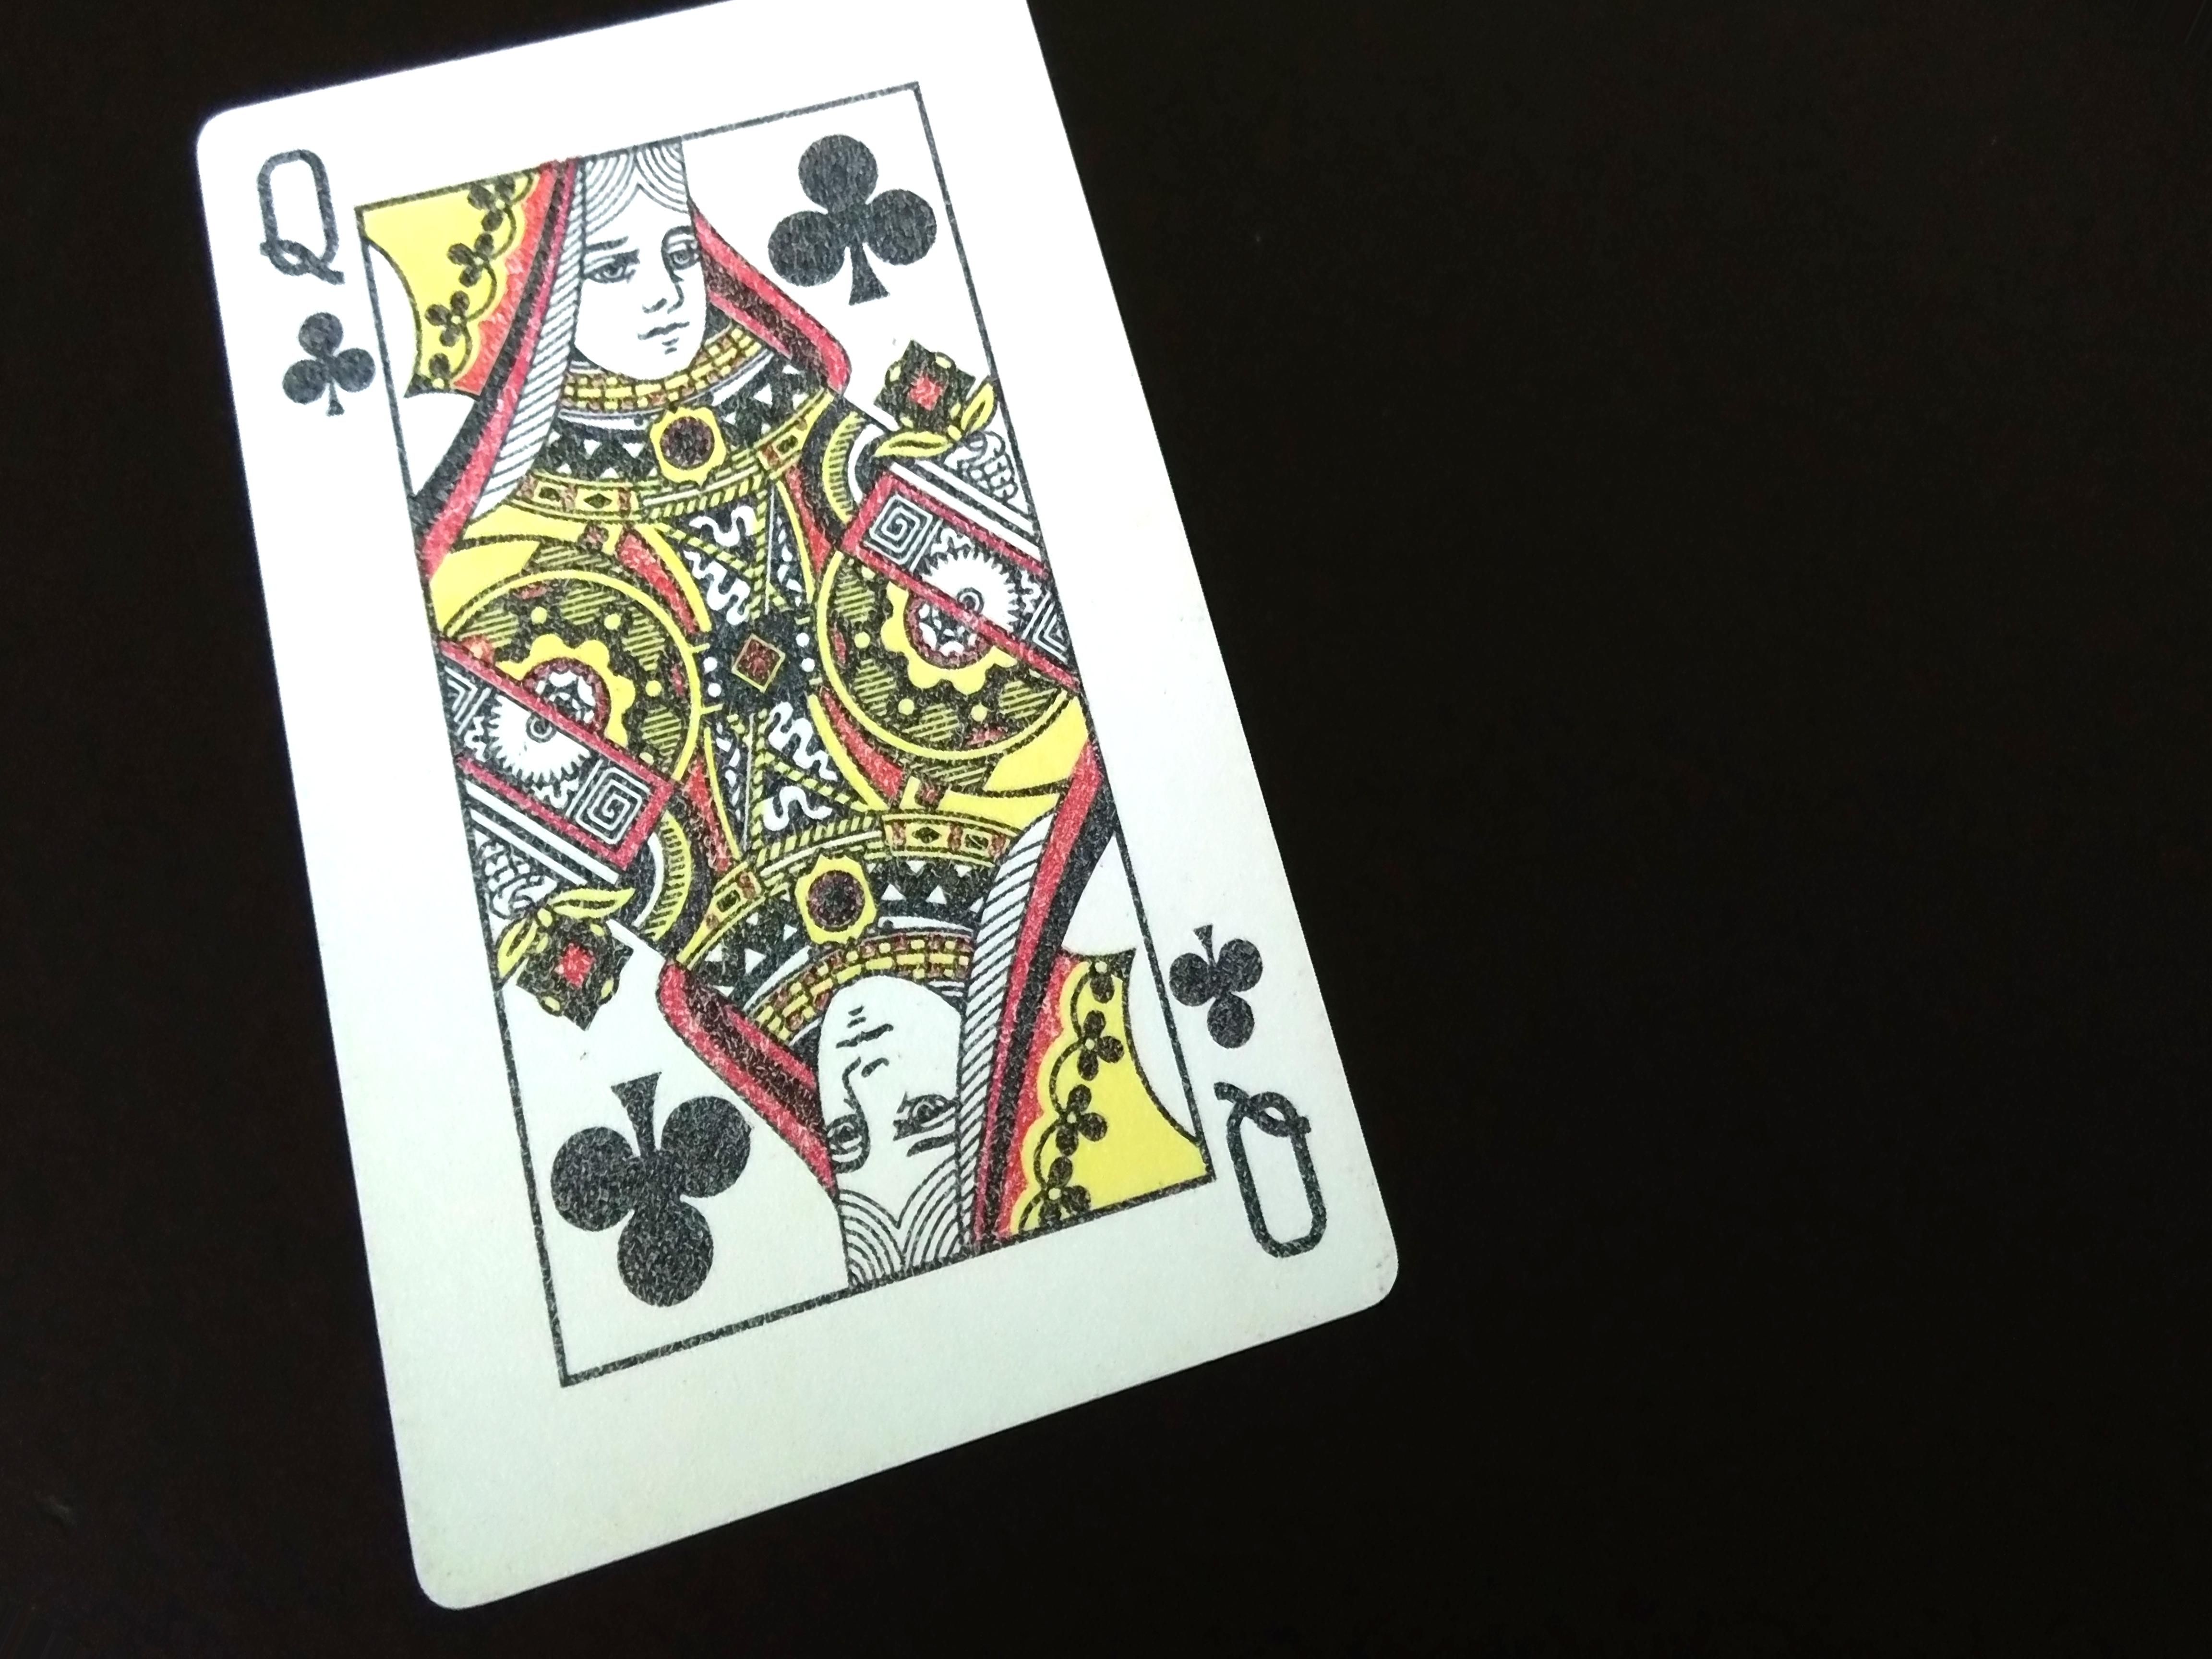QC: (1170, 910, 1332, 1293)
